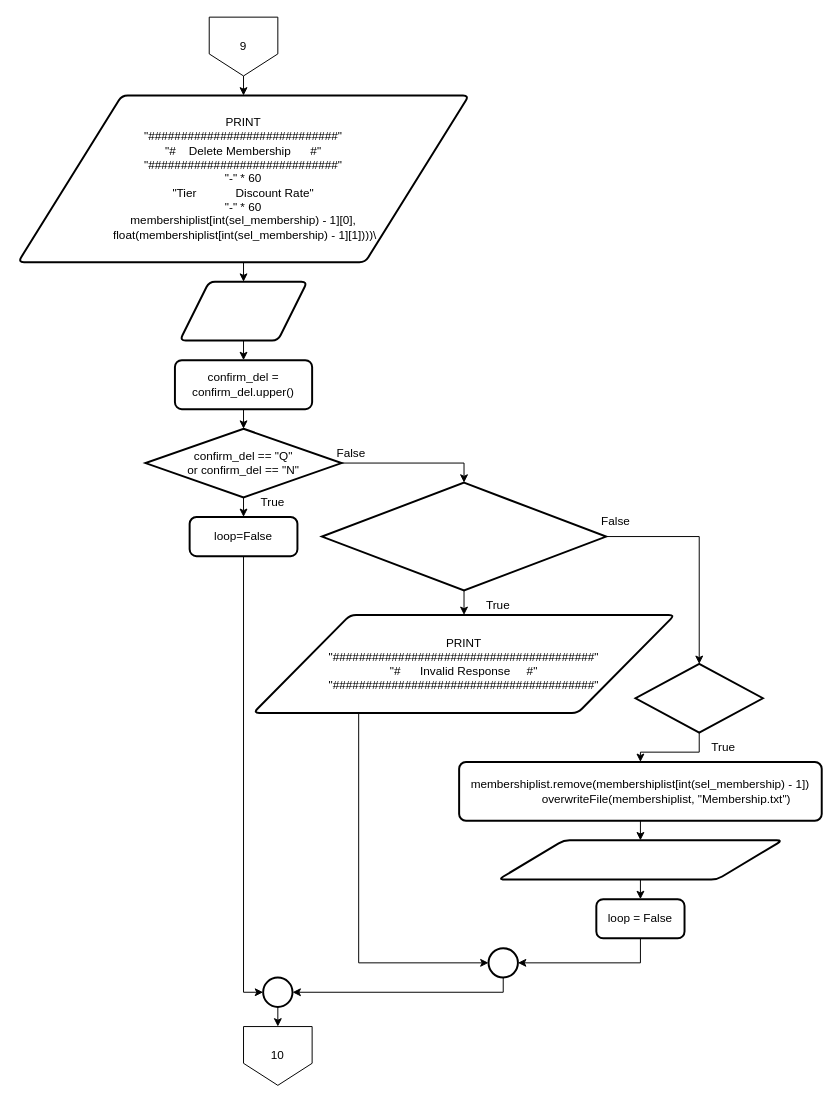
Image size: 839x1103. Some labels were removed from this diagram. The shapes that lost their labels are listed below. From the top down, each one's centre as x and y in pixels, then its label:
point 243,310: INPUT confirm_del
point 463,536: confirm_del != "Y" and confirm_del != "N" and confirm_del != "Q"
point 698,697: confirm_del == "Y"
point 640,859: "Membership deleted successfully"
